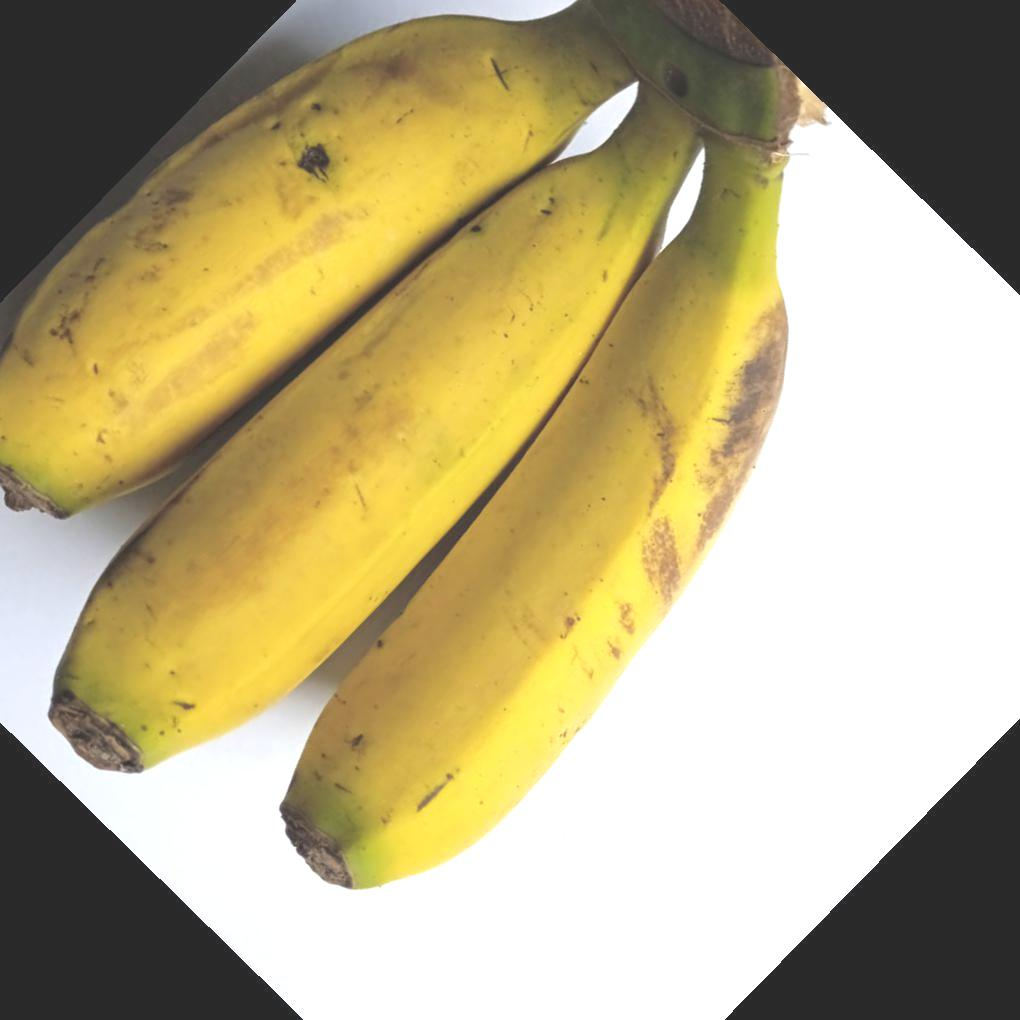Banana Ripe: (0, 0, 812, 1020), (64, 58, 788, 972), (2, 5, 719, 832), (74, 90, 812, 800)
